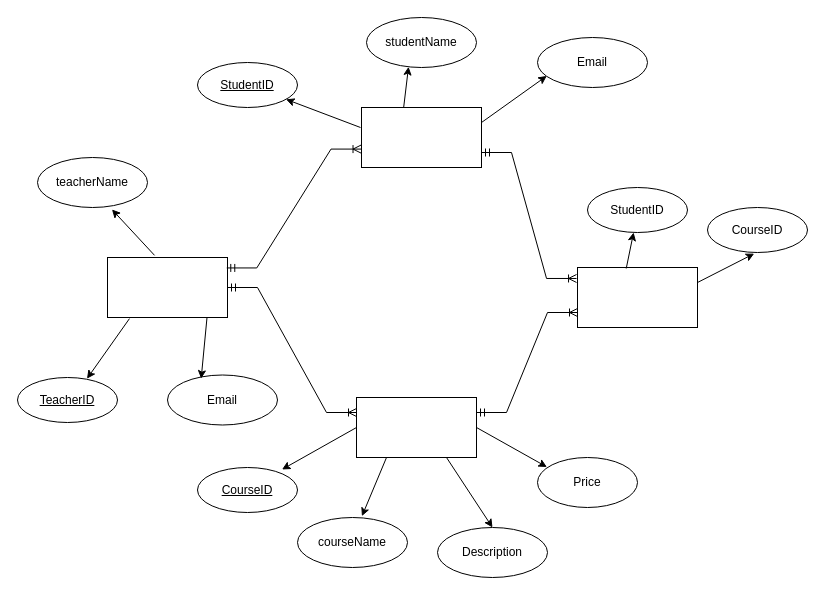
The diagram is 825 pixels wide and 595 high, and some of its shapes have lost their labels. The shapes that lost their labels are listed below. From the top down, each one's centre as x and y in pixels, then its label:
At pixel 421 137: "Student".
At pixel 167 287: "Teacher".
At pixel 637 297: "Enrollment".
At pixel 416 427: "Course".
